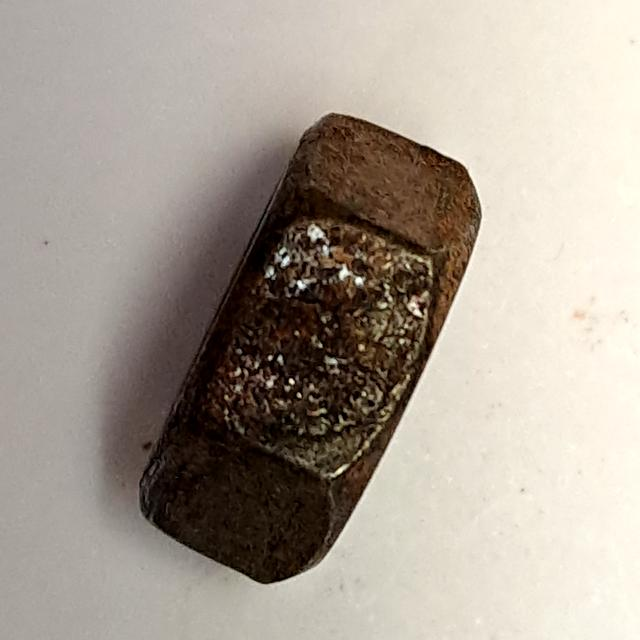Side_Rust: (121, 85, 491, 609)
